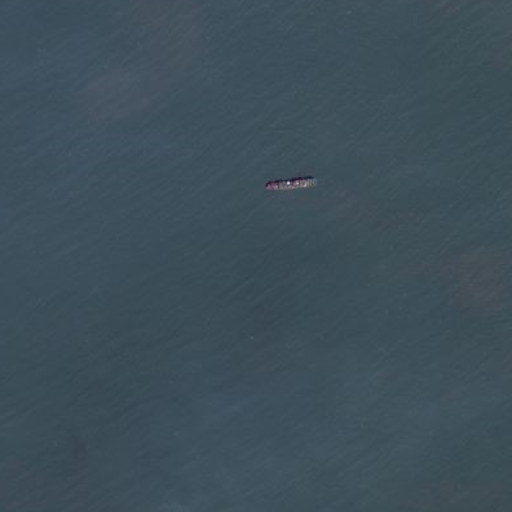ship: (263, 174, 319, 195)
